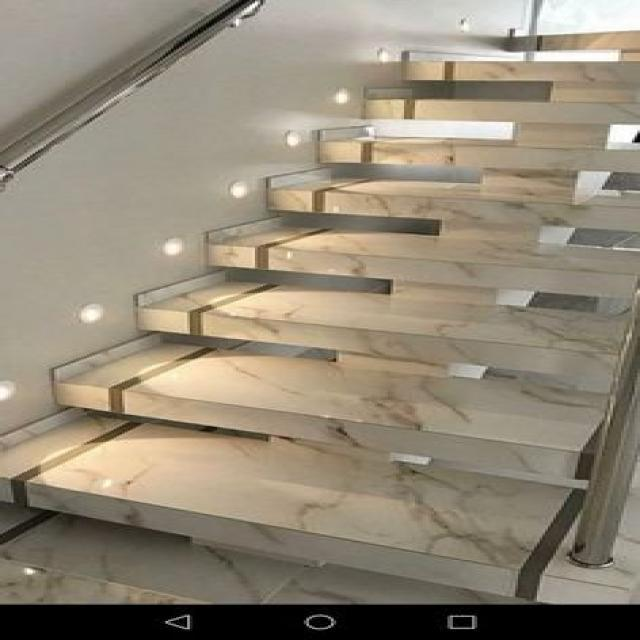stairs: (0, 22, 637, 603)
